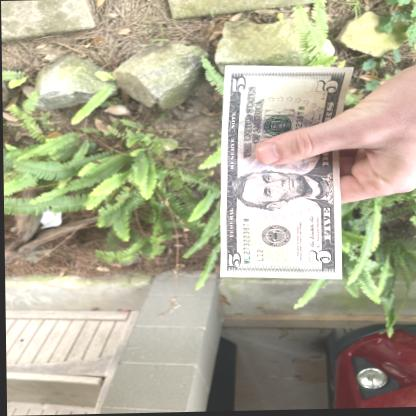five-front: (218, 60, 348, 285)
